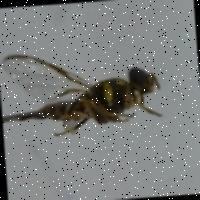Oriental-fruit-fly: (0, 30, 180, 157)
